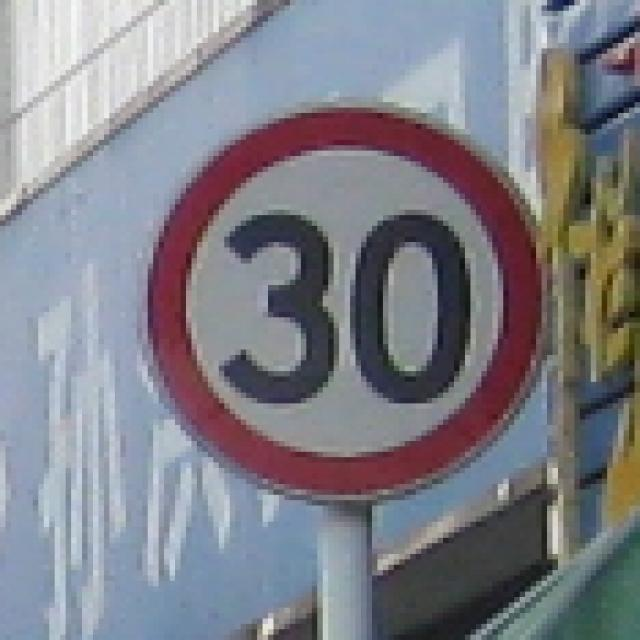Speed: (147, 99, 549, 515)
